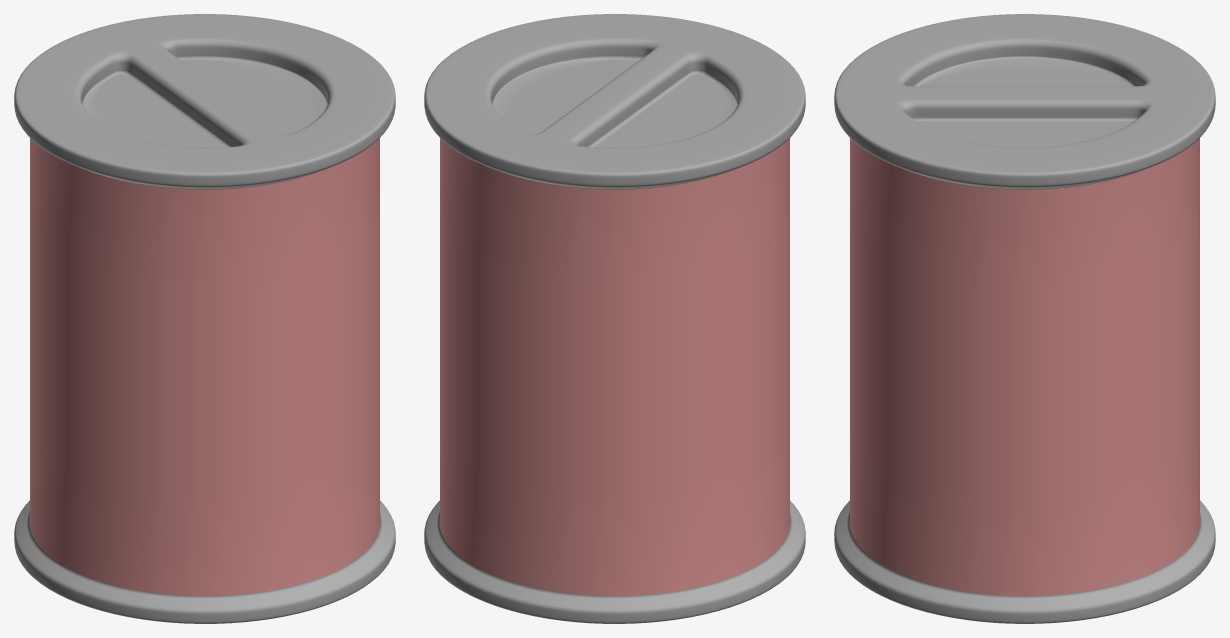
File: HP_Thread_01.fbx
3 renders of one model, left to right at view 1: azimuth 30°, elevation 25°; view 2: azimuth 150°, elevation 25°; view 3: azimuth 270°, elevation 25°, orthographic.
Parts seen in each view (by area): view 1: pCylinder9; view 2: pCylinder9; view 3: pCylinder9.
Part boxes in pixels (x1=…): pCylinder9: x1=14, y1=14, x2=395, y2=623; pCylinder9: x1=424, y1=14, x2=805, y2=623; pCylinder9: x1=834, y1=14, x2=1215, y2=623.
Bounding box in the file's own units: 3.45 × 4.5 × 3.45.
